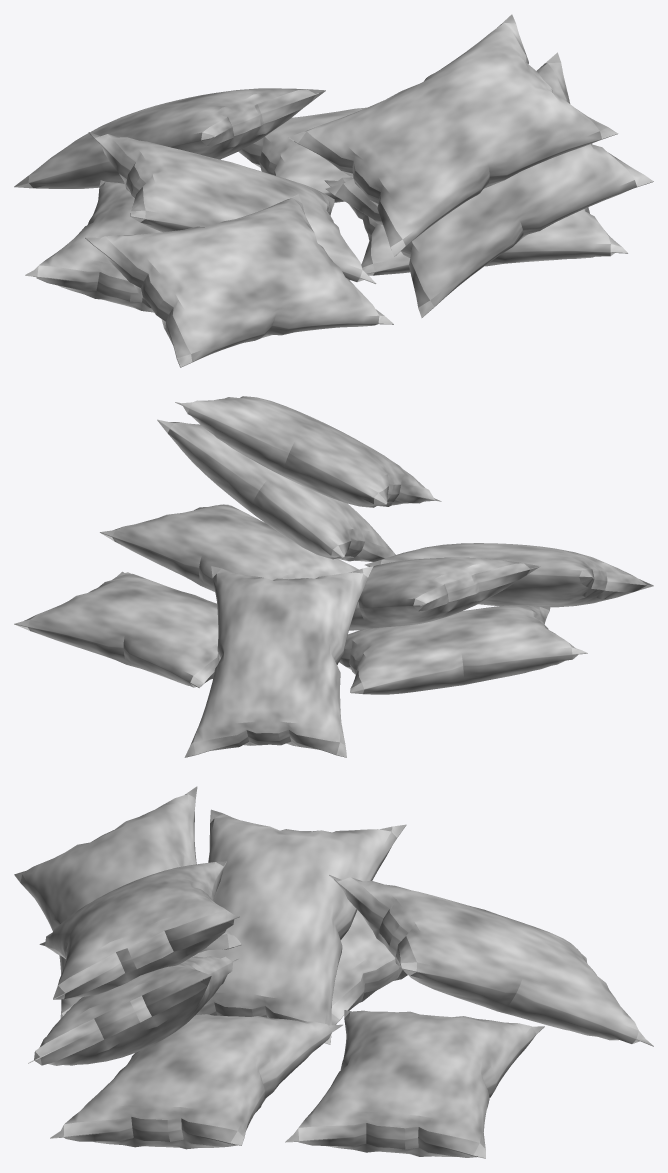
Rendered from katte.fbx.
3 views of the same model, one above another, from view 1: azimuth 30°, elevation 25°; view 2: azimuth 150°, elevation 25°; view 3: azimuth 270°, elevation 25° (orthographic). The views are drawn at different scales.
Visible parts, largest first — view 1: Plane.013, Plane.014, Plane.015, Plane.002, Plane.003, Plane.012, Plane.011, Plane.001; view 2: Plane.003, Plane.012, Plane.001, Plane.013, Plane.011, Plane.015, Plane.002, Plane.014; view 3: Plane.002, Plane.001, Plane.003, Plane.011, Plane.013, Plane.014, Plane.015, Plane.012.
Part boxes in pixels (left/top/right/bottom): Plane.013: left=288, top=14, right=617, bottom=256; Plane.014: left=85, top=194, right=393, bottom=367; Plane.015: left=325, top=52, right=653, bottom=317; Plane.002: left=88, top=132, right=376, bottom=283; Plane.003: left=14, top=88, right=325, bottom=188; Plane.012: left=25, top=180, right=162, bottom=312; Plane.011: left=324, top=177, right=627, bottom=275; Plane.001: left=238, top=107, right=366, bottom=202; Plane.003: left=184, top=566, right=373, bottom=757; Plane.012: left=339, top=605, right=587, bottom=694; Plane.001: left=14, top=571, right=220, bottom=687; Plane.013: left=175, top=396, right=441, bottom=507; Plane.011: left=100, top=504, right=358, bottom=591; Plane.015: left=157, top=419, right=395, bottom=561; Plane.002: left=349, top=557, right=540, bottom=630; Plane.014: left=365, top=543, right=653, bottom=607; Plane.002: left=192, top=809, right=406, bottom=1044; Plane.001: left=285, top=1010, right=544, bottom=1158; Plane.003: left=329, top=875, right=653, bottom=1046; Plane.011: left=50, top=1014, right=342, bottom=1149; Plane.013: left=39, top=861, right=239, bottom=999; Plane.014: left=14, top=786, right=241, bottom=1018; Plane.015: left=28, top=956, right=238, bottom=1065; Plane.012: left=331, top=910, right=407, bottom=1025.
Bounding box in the file's own units: 317 × 116 × 283.
1 material, 1 textured.
